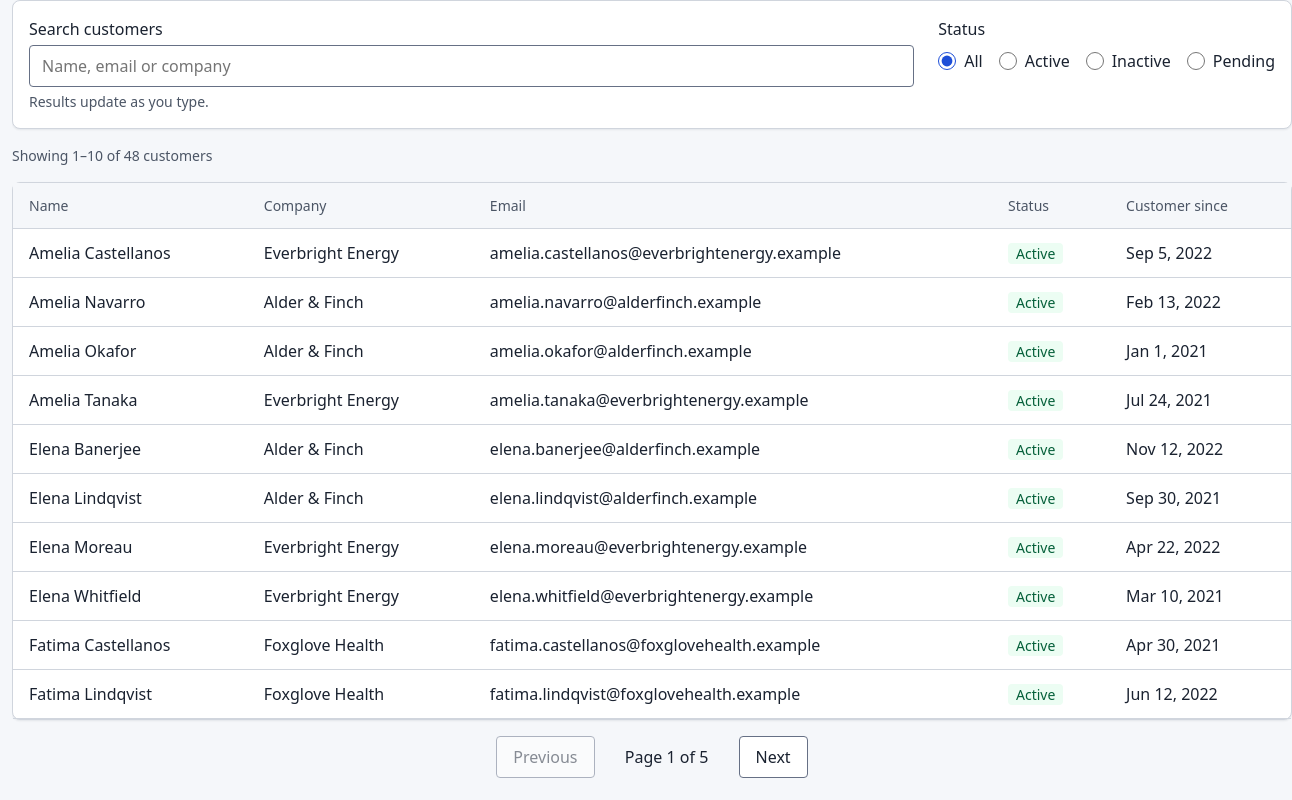
it: CustomerDashboard: pagination › shows a short last page and disables Next there
Click the button with aria-label "Next page".
click(773, 757)  # box [738, 736, 808, 778]
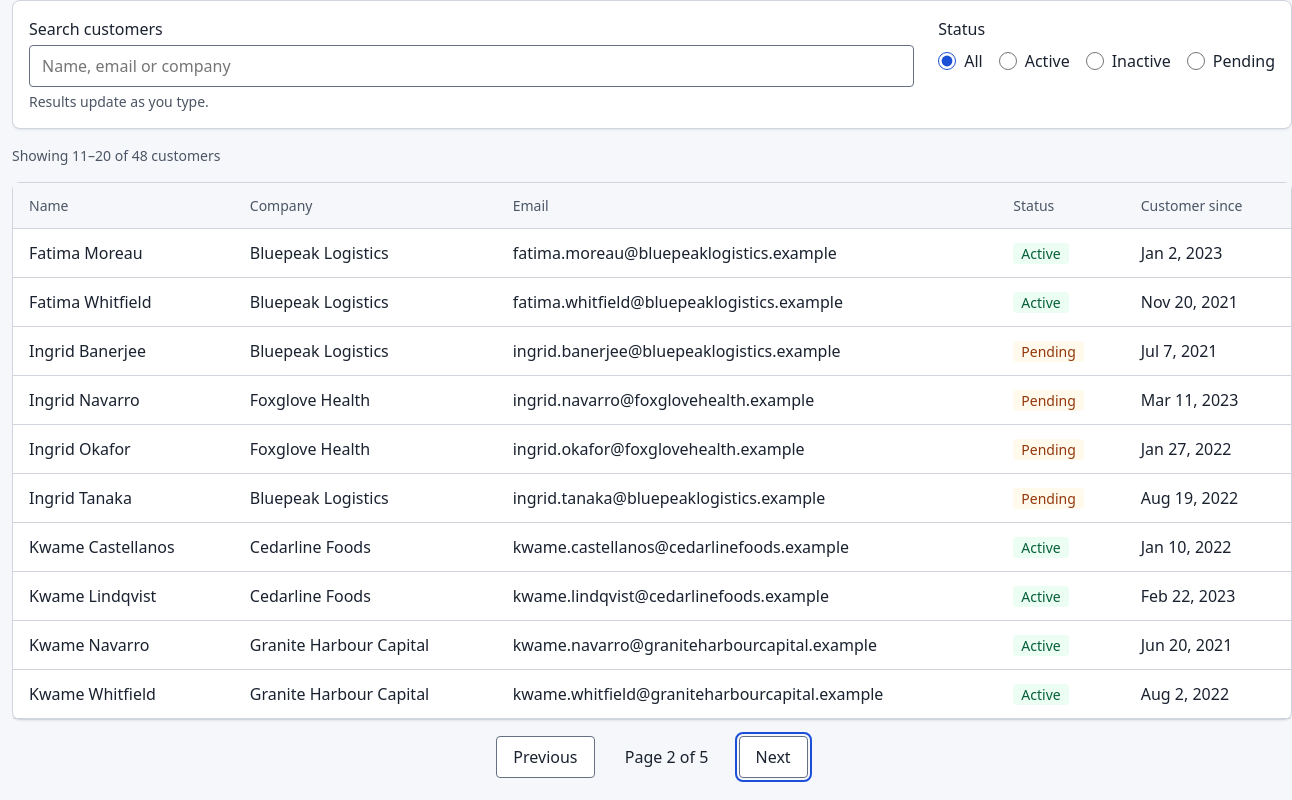
Expected: the text "Page 2 of 5" is shown, [625, 746, 708, 768]
Click the button with aria-label "Next page".
click(773, 757)  # box [738, 736, 808, 778]
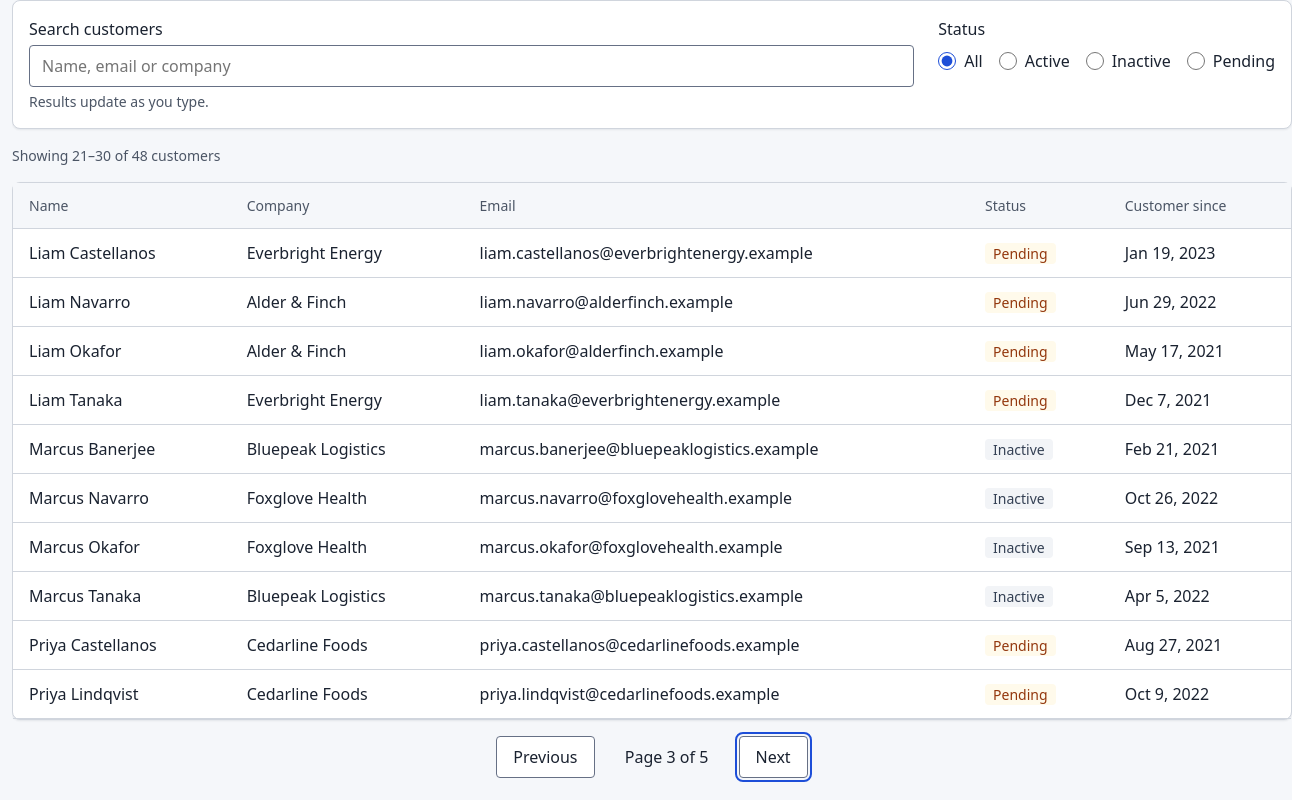
Click the button with aria-label "Next page".
click(773, 757)  # box [738, 736, 808, 778]
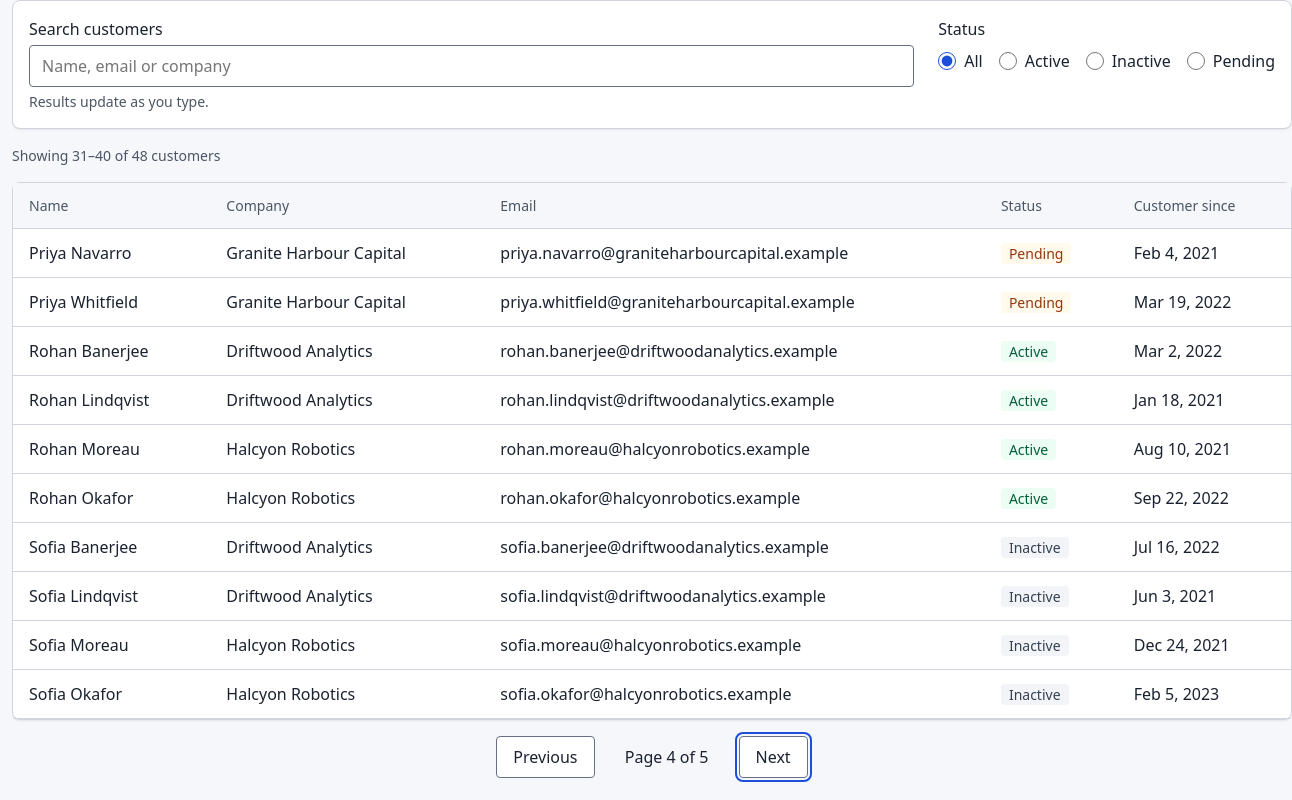
Click the button with aria-label "Next page".
click(773, 757)  # box [738, 736, 808, 778]
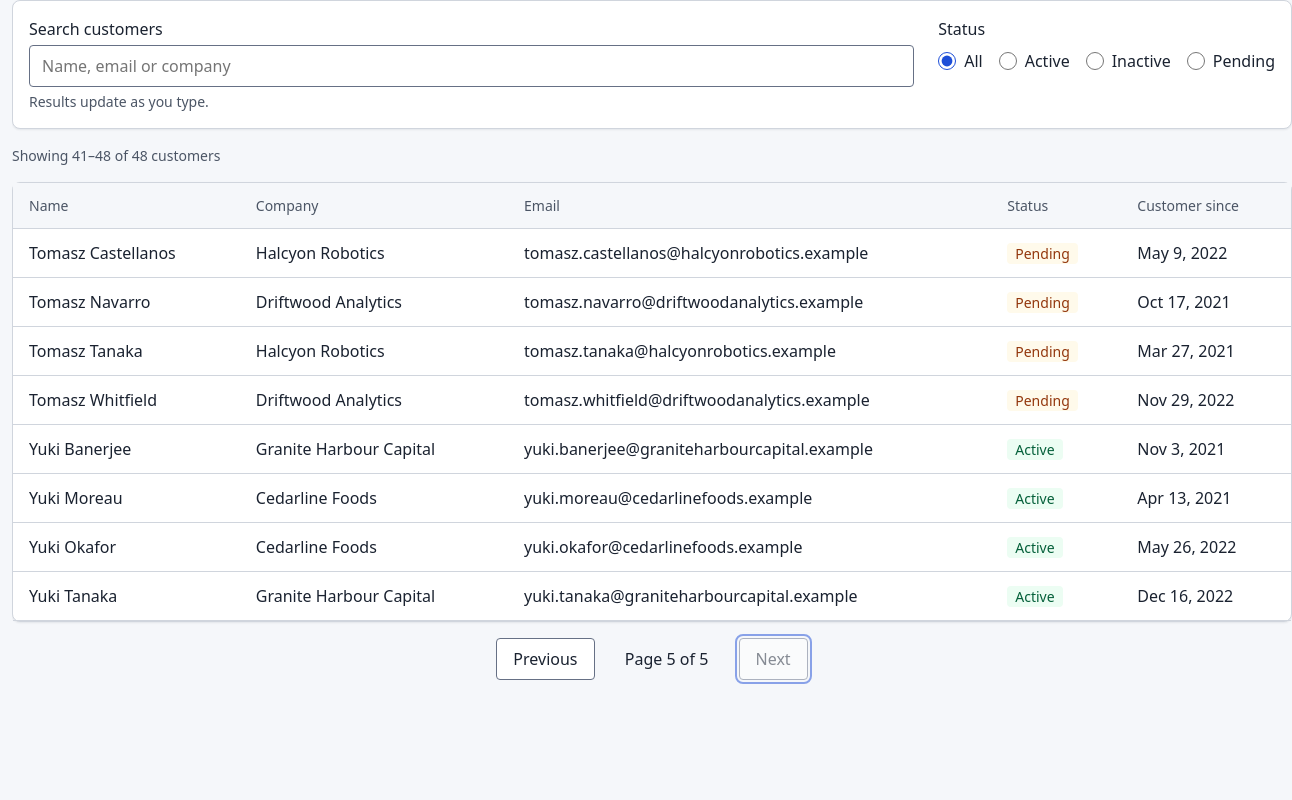
Expected: the text "Showing 41–48 of 48 customers" is shown, [12, 146, 220, 165]
